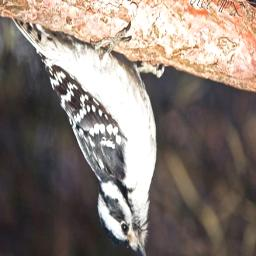Woodpecker: (13, 18, 169, 256)
